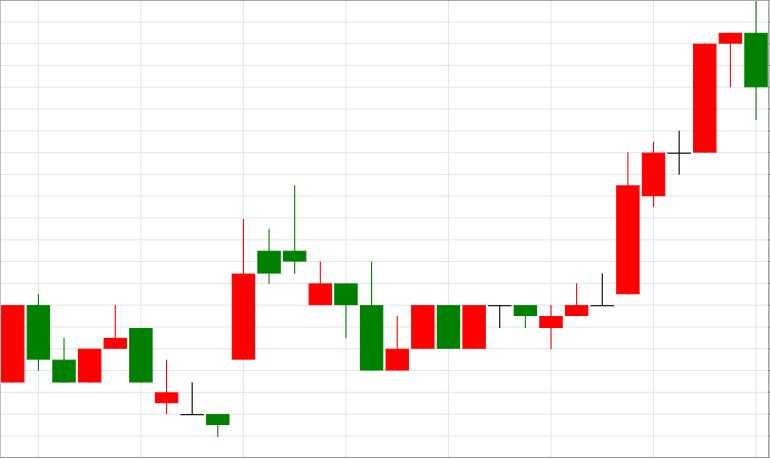bearish_engulfing_fall: (617, 0, 769, 295)
